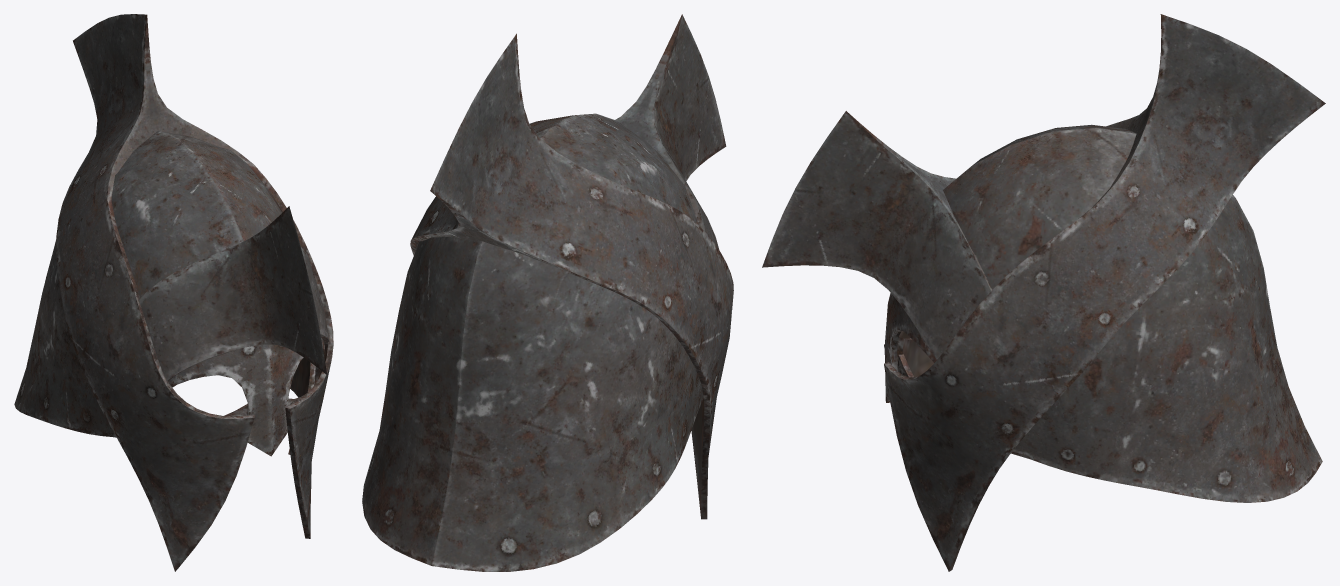
The model's file is sk_gb_uruk_helmet_elite_b.fbx.
The picture shows the model from 3 angles, left to right: view 1: azimuth 30°, elevation 25°; view 2: azimuth 150°, elevation 25°; view 3: azimuth 270°, elevation 25°; orthographic projection. The views are drawn at different scales.
Visible parts, largest first — view 1: sk_gb_uruk_helmet_elite_b; view 2: sk_gb_uruk_helmet_elite_b; view 3: sk_gb_uruk_helmet_elite_b.
Part boxes in pixels (left/top/right/bottom): sk_gb_uruk_helmet_elite_b: left=14, top=14, right=333, bottom=571; sk_gb_uruk_helmet_elite_b: left=362, top=14, right=733, bottom=571; sk_gb_uruk_helmet_elite_b: left=762, top=14, right=1325, bottom=571.
Bounding box in the file's own units: 0.2034 × 0.3928 × 0.4007.
Materials: 1 (1 with a texture image).
